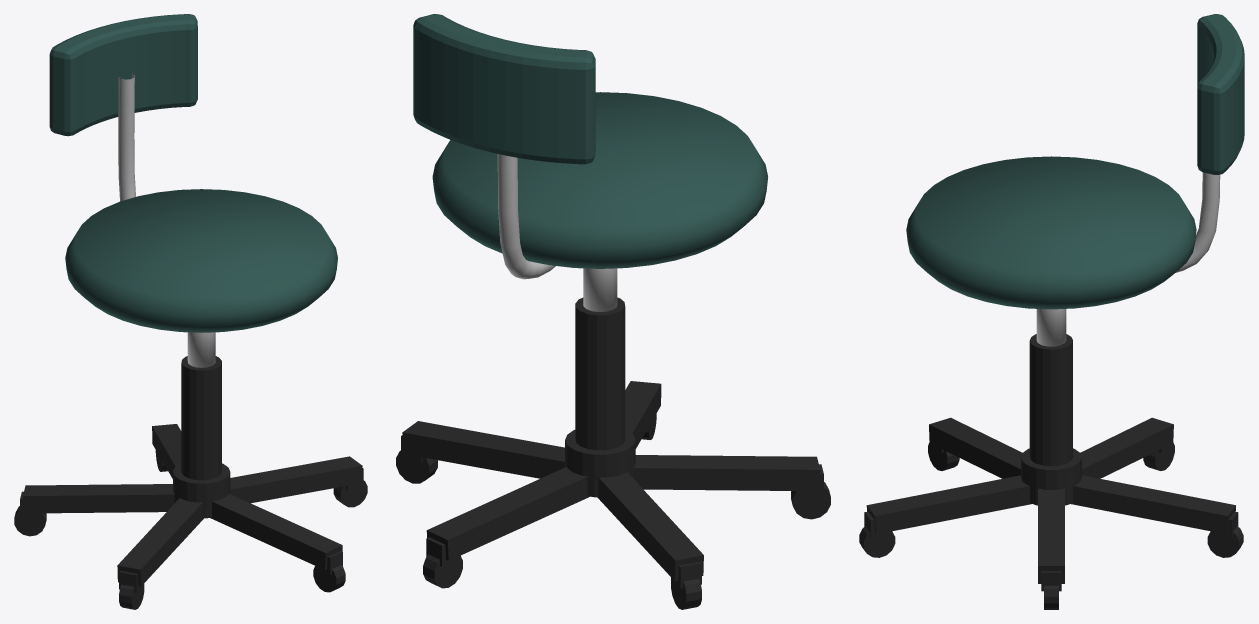
The model's file is lab_chair.glb.
3 renders of one model, left to right at view 1: azimuth 30°, elevation 25°; view 2: azimuth 150°, elevation 25°; view 3: azimuth 270°, elevation 25°, orthographic. The views are drawn at different scales.
Parts seen in each view (by area): view 1: ChairSeat, ChairStar, ChairBack, ChairSteel; view 2: ChairStar, ChairSeat, ChairBack, ChairSteel; view 3: ChairSeat, ChairStar, ChairBack, ChairSteel.
Boxes of the visible parts, bbox=[...] form: ChairSeat: bbox=[65, 189, 337, 332]; ChairStar: bbox=[14, 356, 367, 609]; ChairBack: bbox=[49, 14, 197, 136]; ChairSteel: bbox=[118, 73, 215, 367]; ChairStar: bbox=[396, 297, 830, 609]; ChairSeat: bbox=[432, 92, 767, 268]; ChairBack: bbox=[413, 14, 595, 164]; ChairSteel: bbox=[497, 154, 617, 311]; ChairSeat: bbox=[906, 156, 1196, 309]; ChairStar: bbox=[859, 334, 1243, 609]; ChairBack: bbox=[1197, 14, 1244, 174]; ChairSteel: bbox=[1036, 172, 1220, 346].
Size of the model in its own units: 0.539 by 0.785 by 0.5684.
